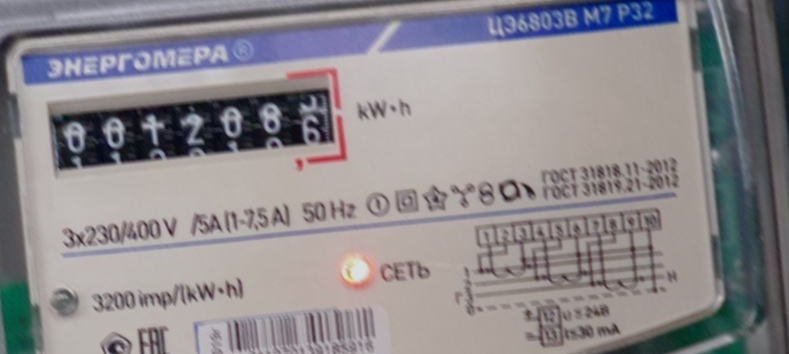0: (101, 111, 128, 151), (217, 102, 246, 139), (63, 116, 87, 155)
1: (142, 109, 163, 148)
2: (179, 109, 209, 147)
6: (297, 109, 324, 146)
8: (256, 99, 283, 137)
screen: (35, 56, 358, 209)
